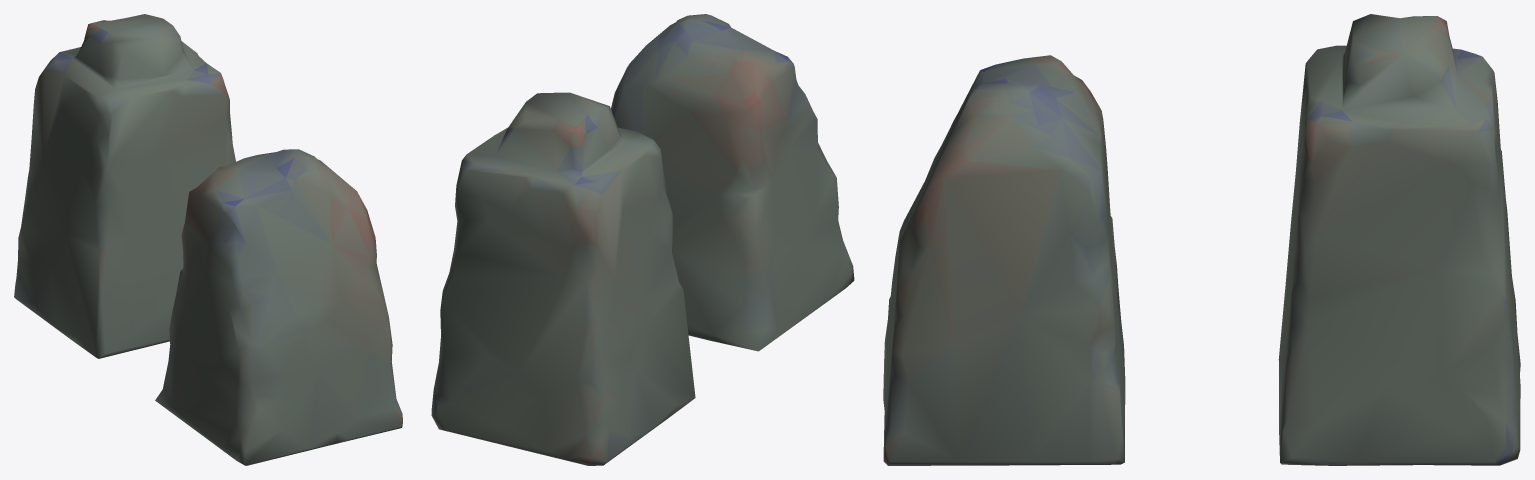
File: stone_wall_caps.fbx
3 views of the same model, side by side, from view 1: azimuth 30°, elevation 25°; view 2: azimuth 150°, elevation 25°; view 3: azimuth 270°, elevation 25° (orthographic). The views are drawn at different scales.
Parts seen in each view (by area): view 1: fence_post_02, fence_post_01; view 2: fence_post_01, fence_post_02; view 3: fence_post_01, fence_post_02.
Part boxes in pixels (<box>): fence_post_02: <box>155,149,402,465</box>; fence_post_01: <box>14,14,235,358</box>; fence_post_01: <box>431,92,695,465</box>; fence_post_02: <box>611,14,854,351</box>; fence_post_01: <box>1278,14,1520,465</box>; fence_post_02: <box>883,55,1125,465</box>.
Bounding box in the file's own units: 76.55 × 127 × 193.
